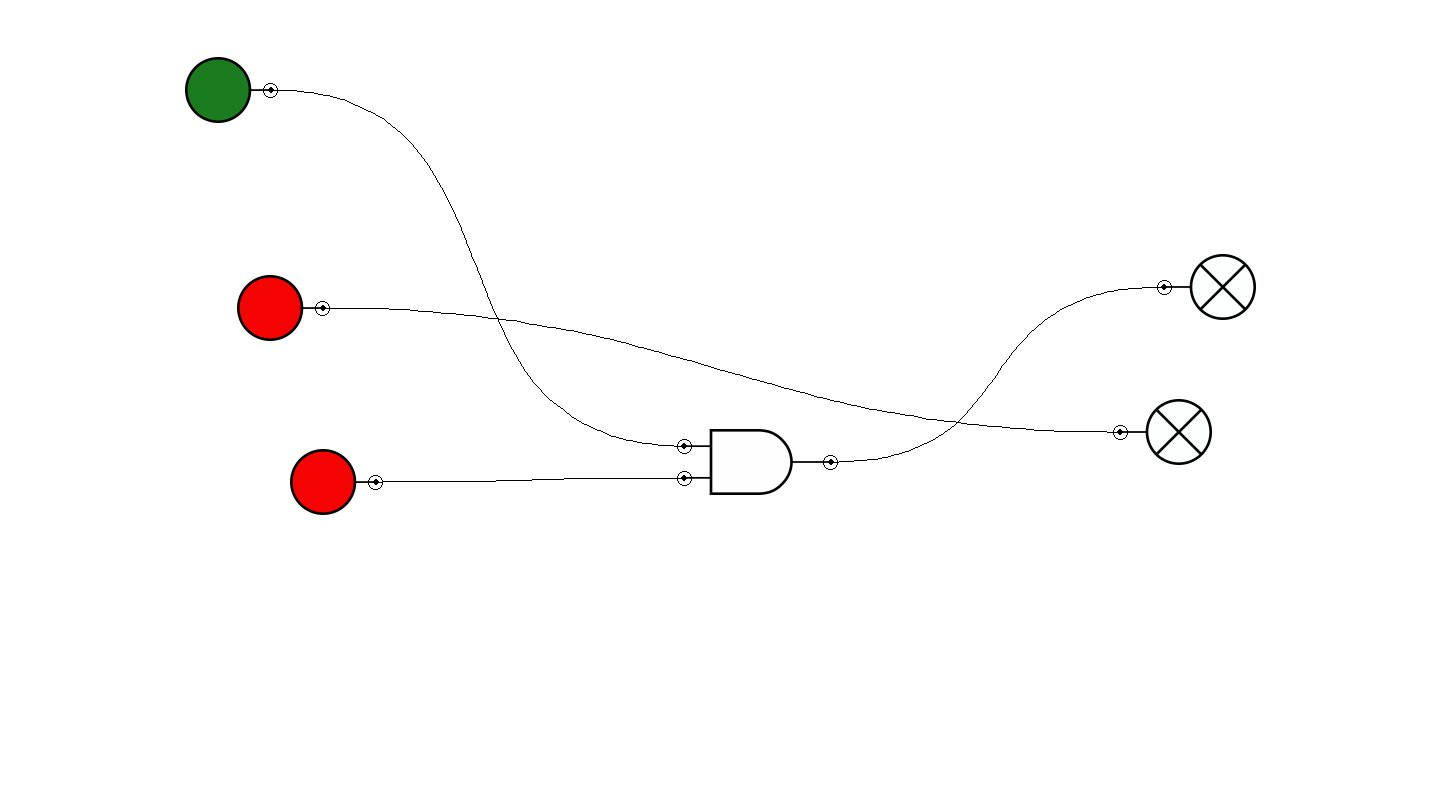and: (677, 429, 838, 495)
bulb: (1113, 399, 1212, 465), (1157, 254, 1256, 320)
switch_False: (290, 449, 383, 515), (237, 275, 330, 341)
switch_True: (185, 57, 278, 123)
